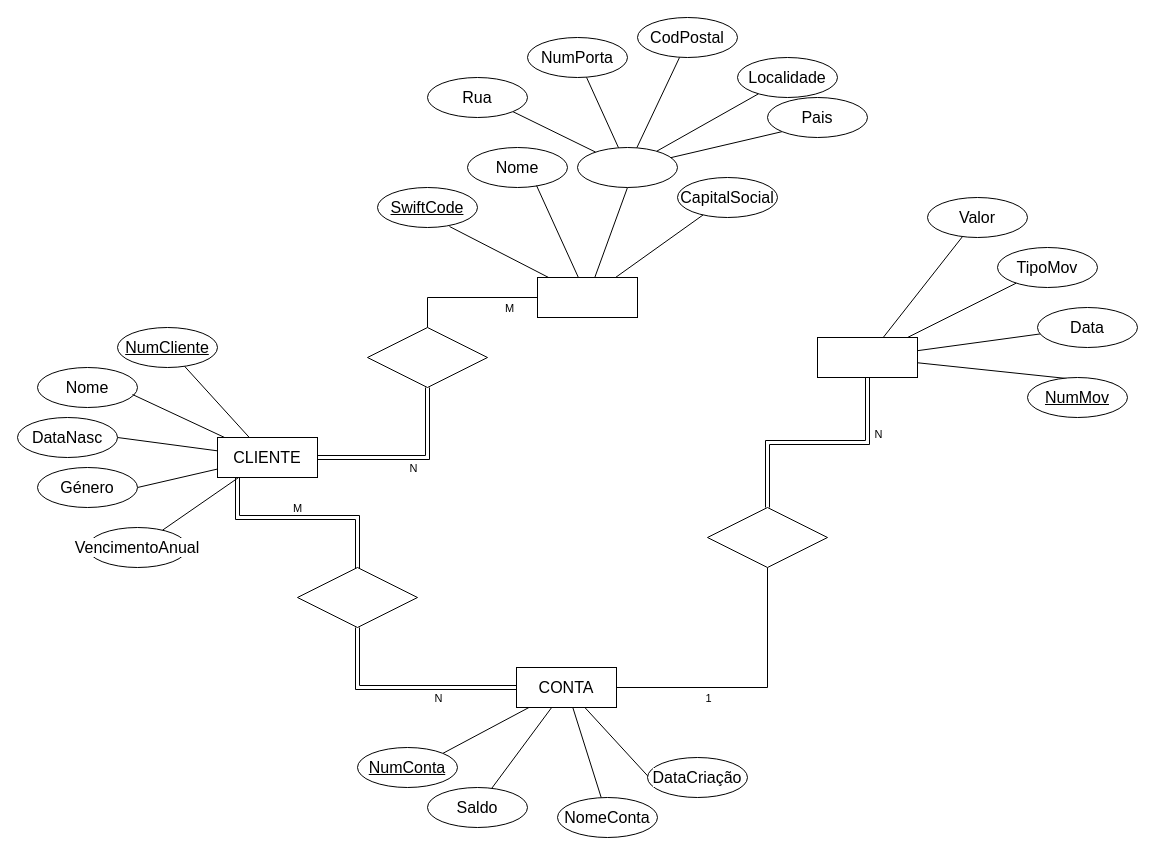
Some shapes in this 1155 by 855 pixel diagram are drawn without their labels. The box of each missing label's shape, as (x1, y1, x2, y2) in pixels:
BANCO: (536, 276, 638, 318)
CONTA_DE: (296, 566, 418, 628)
Morada: (576, 146, 678, 188)
MOVIMENTOS: (816, 336, 918, 378)
MOVIMENTOS_DE: (706, 506, 828, 568)
PERTENCE_A: (366, 326, 488, 388)
